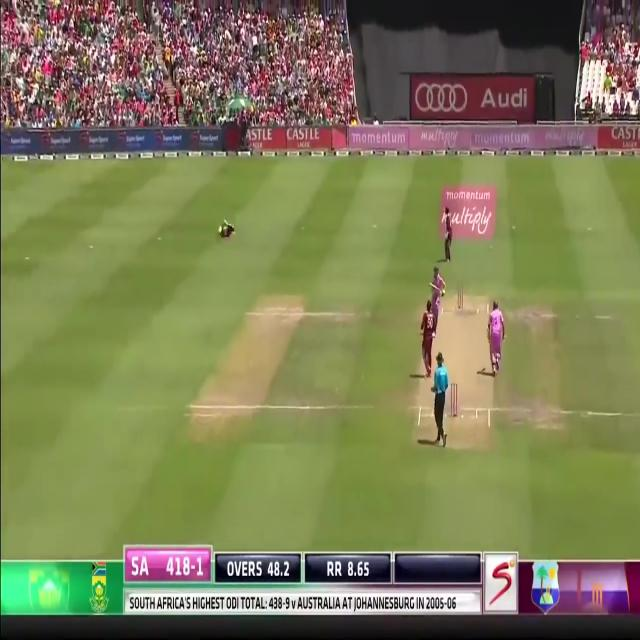Ball: (421, 268, 445, 376), (488, 300, 505, 374), (430, 266, 445, 314)
Fielder: (420, 300, 438, 374), (441, 203, 454, 261), (216, 216, 238, 240)
Umpire: (432, 349, 451, 446)
